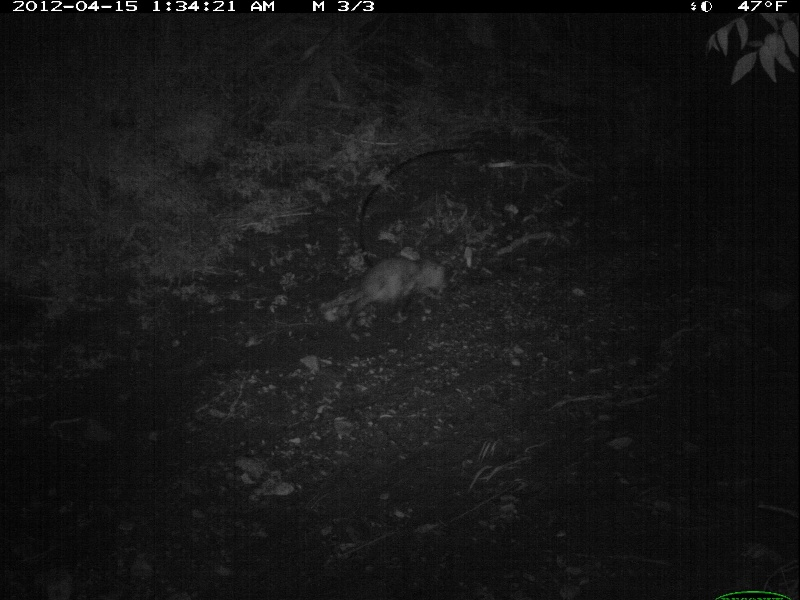opossum: (313, 256, 449, 320)
